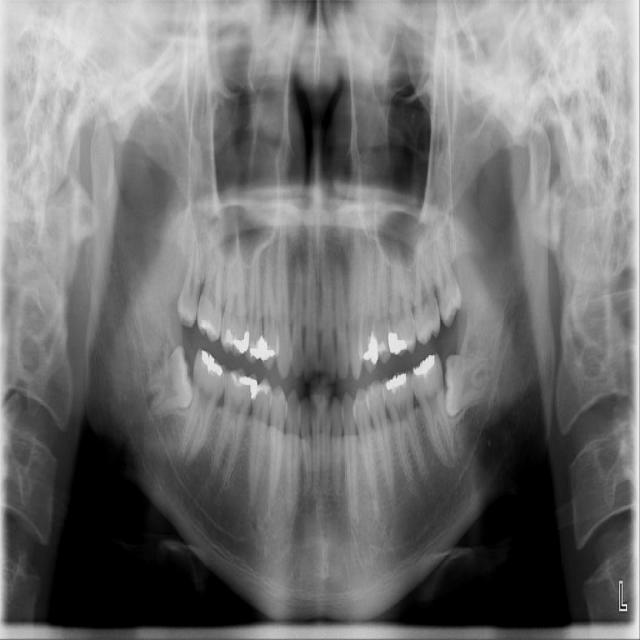Filling: (249, 335, 275, 363), (412, 353, 438, 379), (221, 331, 250, 353), (235, 375, 259, 401), (200, 351, 222, 376), (365, 329, 378, 366), (199, 317, 219, 339), (388, 331, 408, 352), (383, 373, 407, 389), (377, 339, 387, 358)
impacted tooth: (142, 347, 193, 418), (443, 352, 496, 415)
